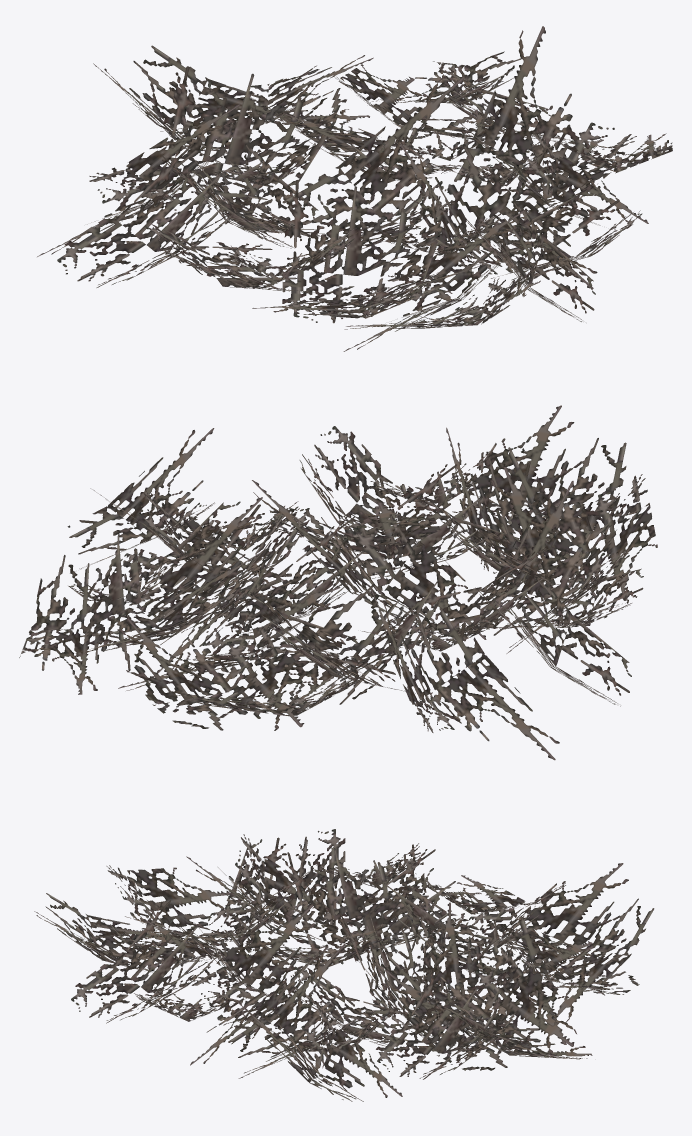
File: roc_nest_straw.glb
The picture shows the model from 3 angles, top to bottom: view 1: azimuth 30°, elevation 25°; view 2: azimuth 150°, elevation 25°; view 3: azimuth 270°, elevation 25°; orthographic projection. The views are drawn at different scales.
Parts seen in each view (by area): view 1: rok_nestStraw_L; view 2: rok_nestStraw_L; view 3: rok_nestStraw_L.
Boxes of the visible parts, x1,y1,x2,y2 form: rok_nestStraw_L: [37, 26, 672, 351]; rok_nestStraw_L: [19, 405, 657, 760]; rok_nestStraw_L: [34, 829, 654, 1101].
Size of the model in its own units: 10.3 by 2.36 by 10.54.
1 material, 1 textured.
